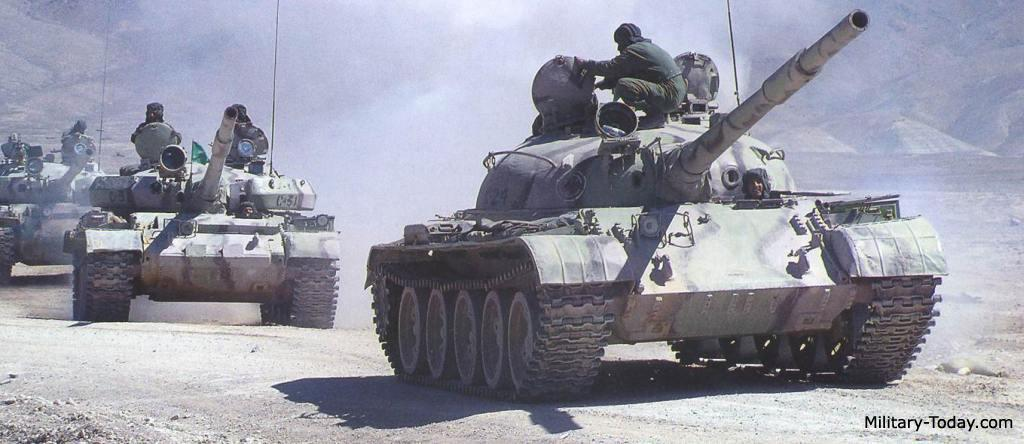person: (57, 119, 88, 164)
tank: (358, 76, 954, 406), (70, 105, 344, 329), (0, 131, 108, 281)
